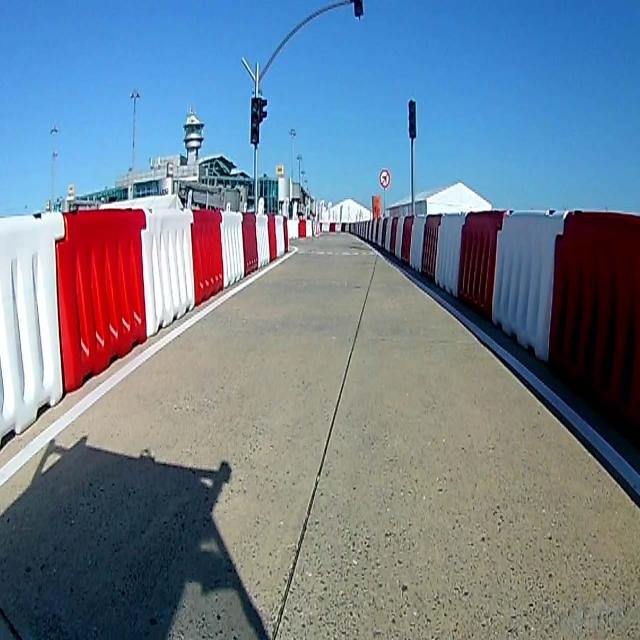soladonulmez: (378, 169, 390, 188)
